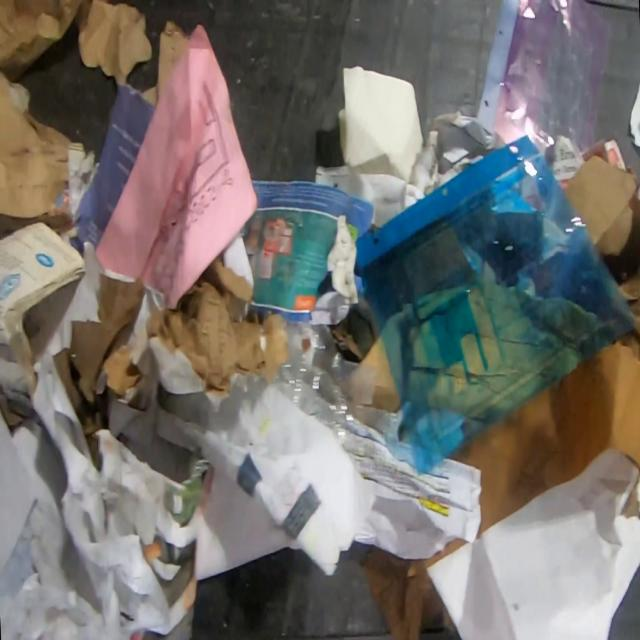cardboard: (449, 331, 640, 539), (146, 250, 287, 397), (565, 149, 640, 337), (358, 537, 468, 639), (330, 308, 398, 412), (95, 337, 143, 397)
soft_plastic: (355, 129, 637, 476), (474, 0, 614, 188), (269, 319, 402, 452), (160, 371, 268, 436)
